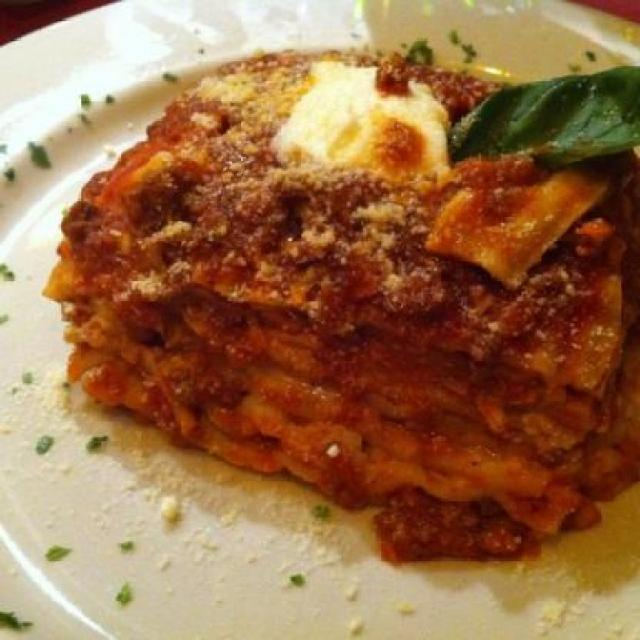Lasagna: (48, 28, 640, 514)
